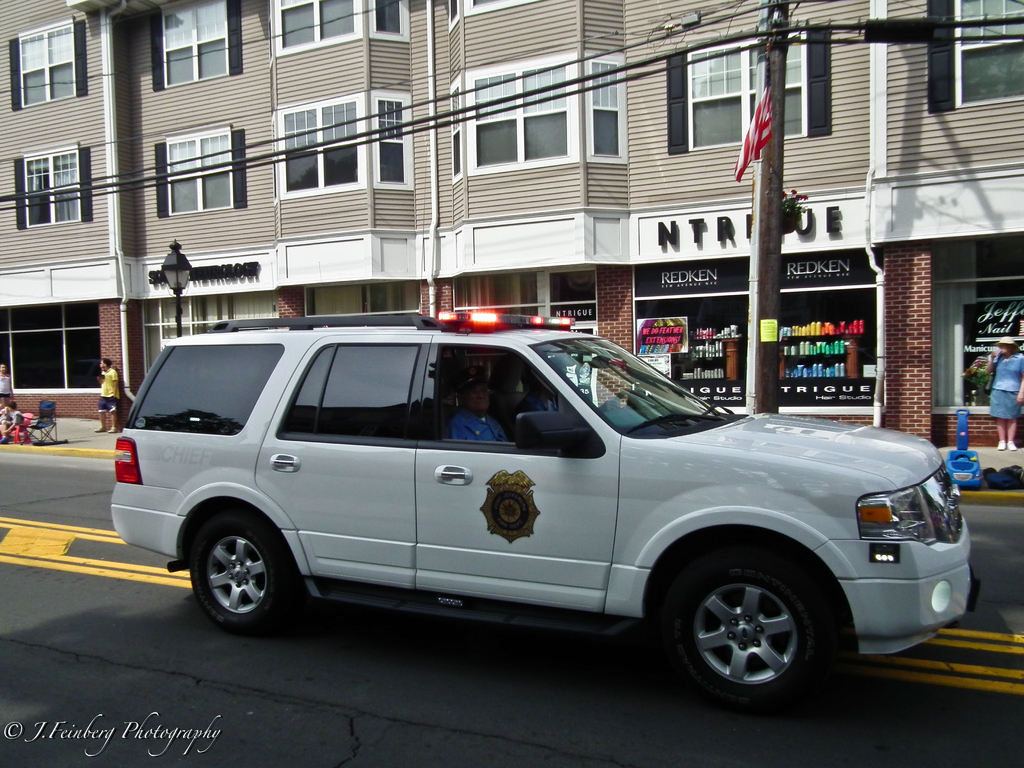person: (444, 374, 511, 441)
